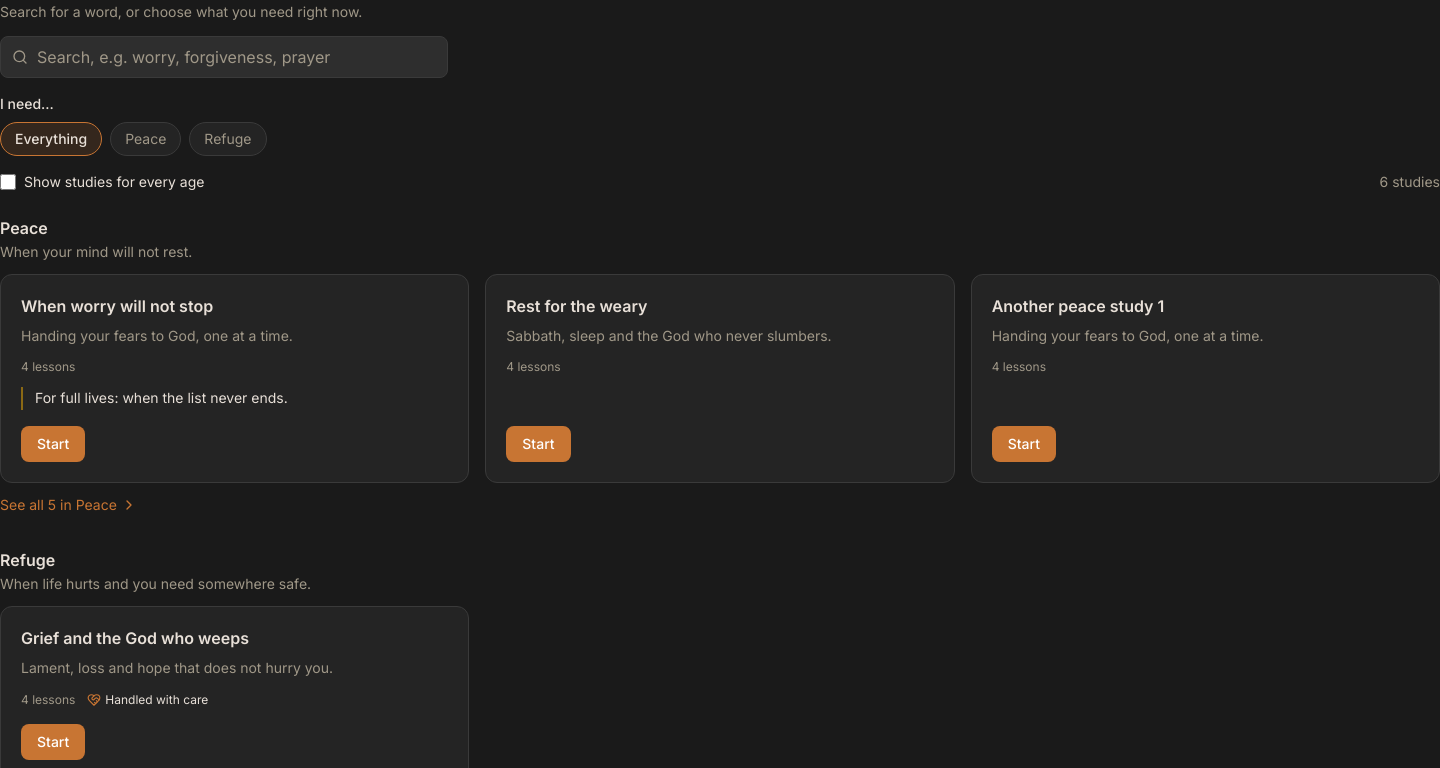
Test: StudyHubPage › previews a few studies per category while browsing, and opens the whole category on request
The image size is (1440, 768).
(page scrolled)
Expected: the heading "Another peace study 1" is shown, [992,294,1164,316]
Expected: the heading "Another peace study 3" is not shown
Click the button "See all 5 in Peace" at (68, 505), box [0,495,137,515]
(page scrolled)
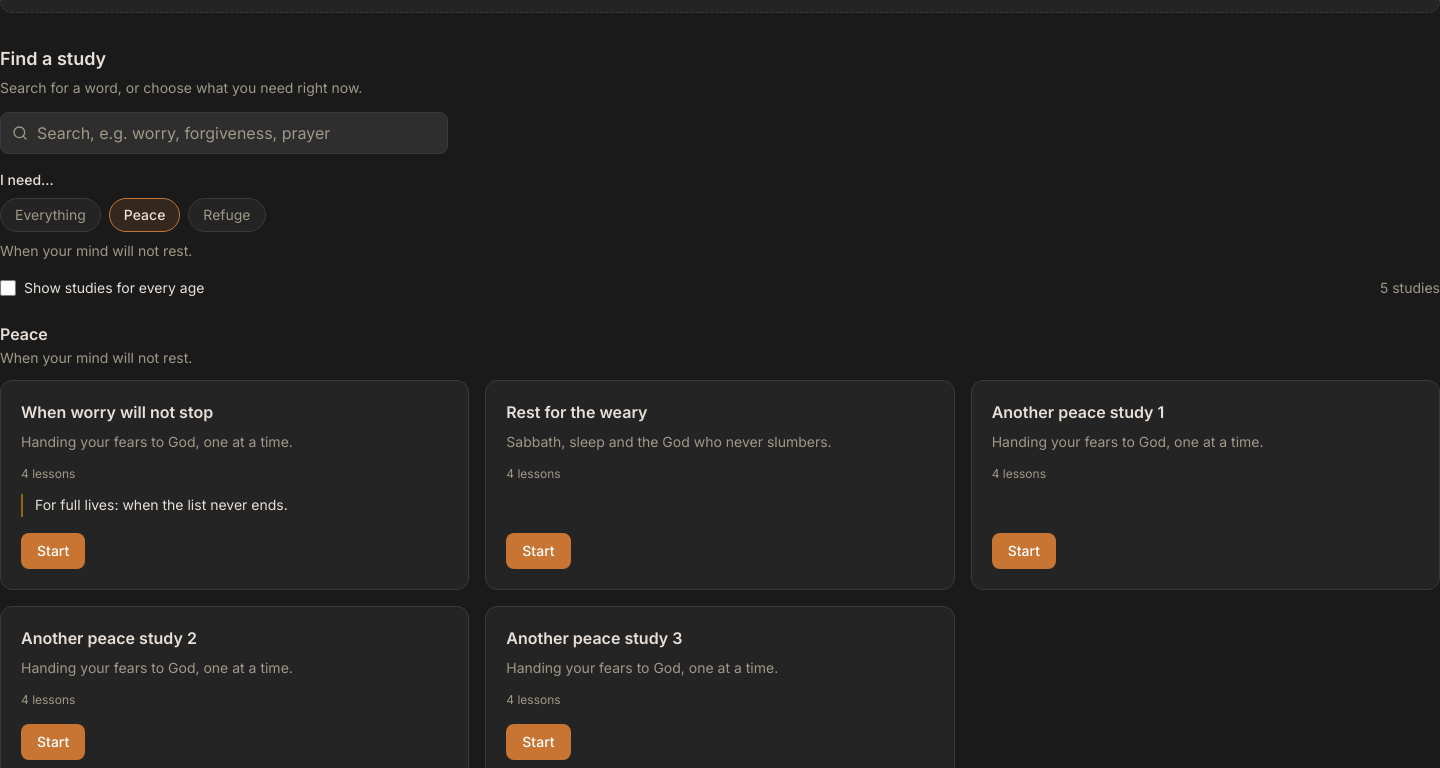
Expected: the heading "Another peace study 3" is shown, [506,627,682,649]
Expected: the heading "Grief and the God who weeps" is gone
Searching looks through everything, not just the previews.
Click the button "Everything" at (50, 214), box [0,198,101,232]
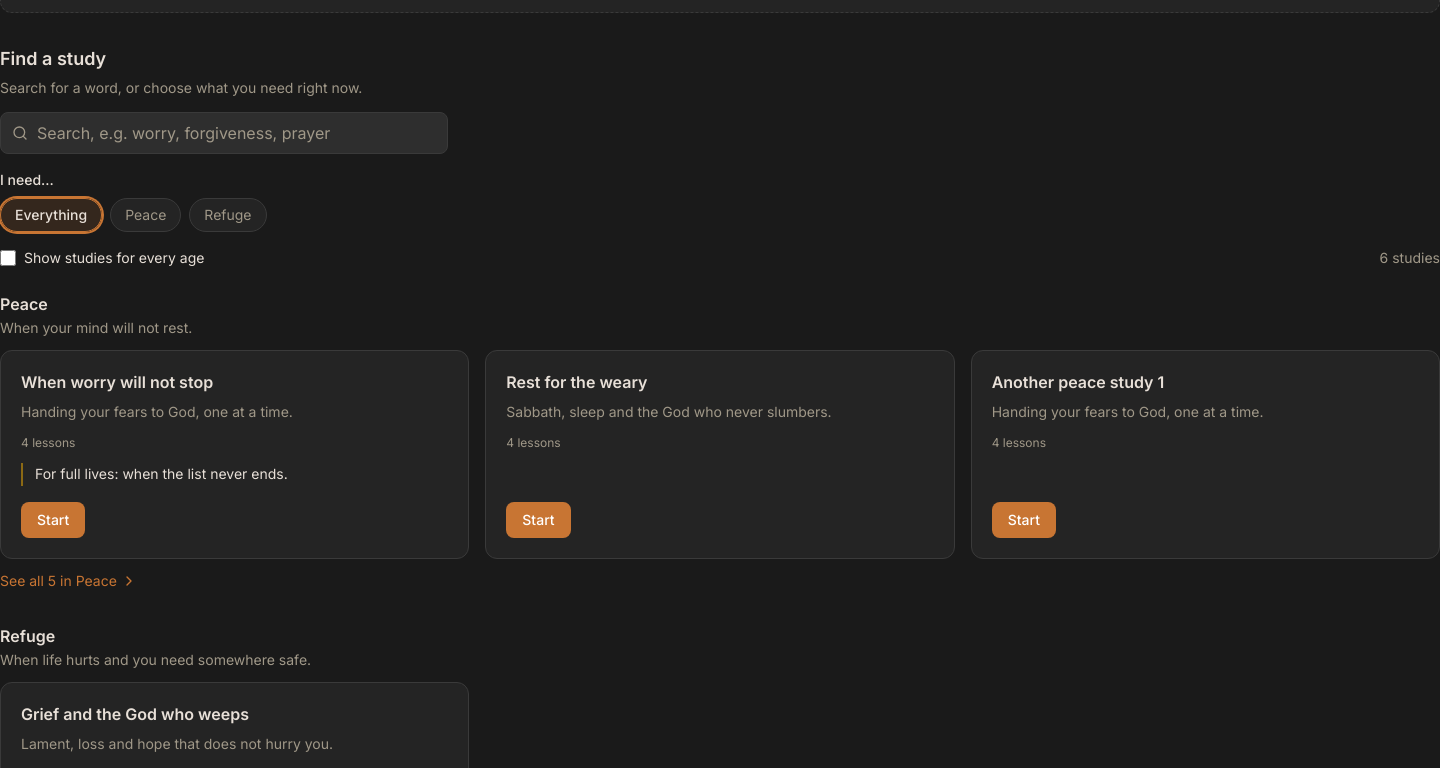
Type "peace study 3" into the search field named "Search studies" at (224, 132), box [0,112,448,154]
(page scrolled)
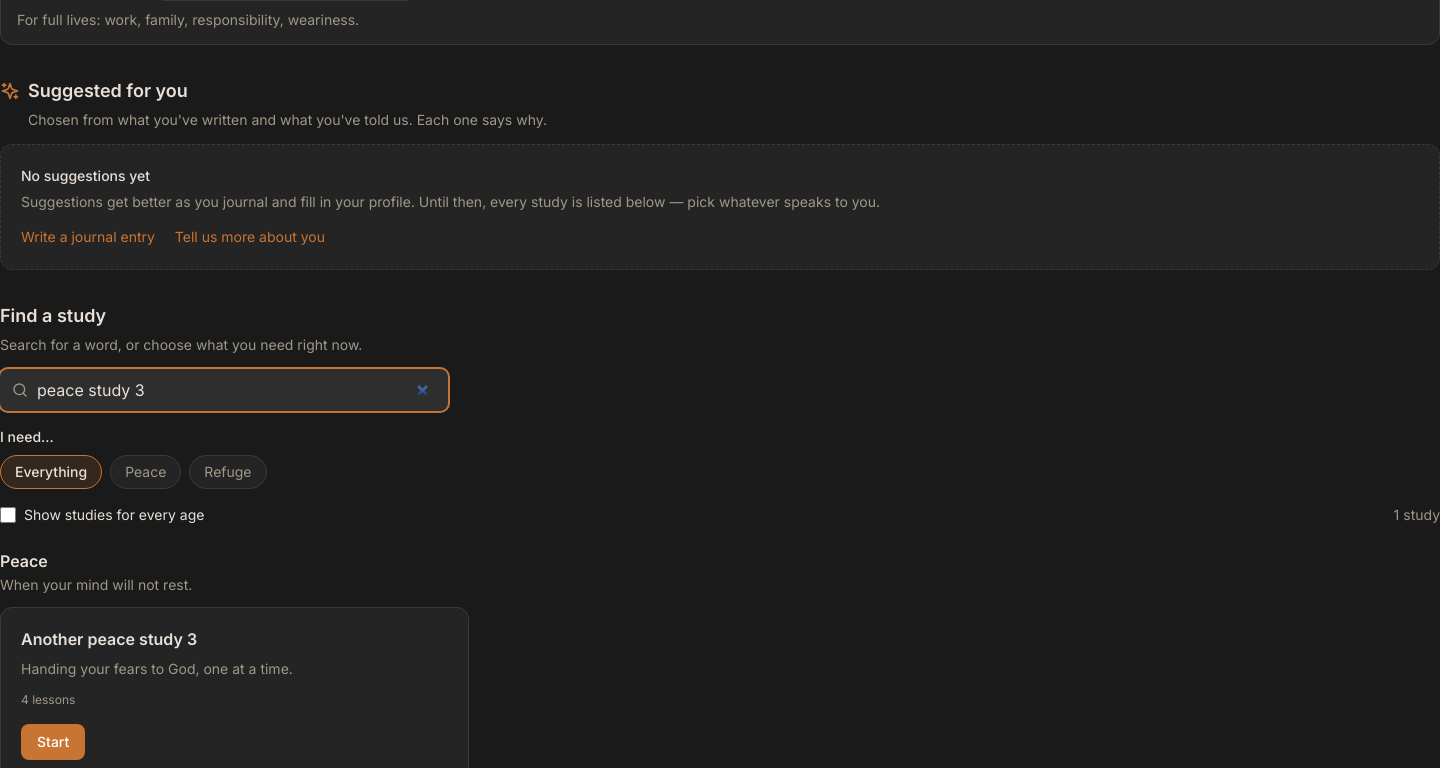
Expected: the heading "Another peace study 3" is shown, [21,628,197,650]
